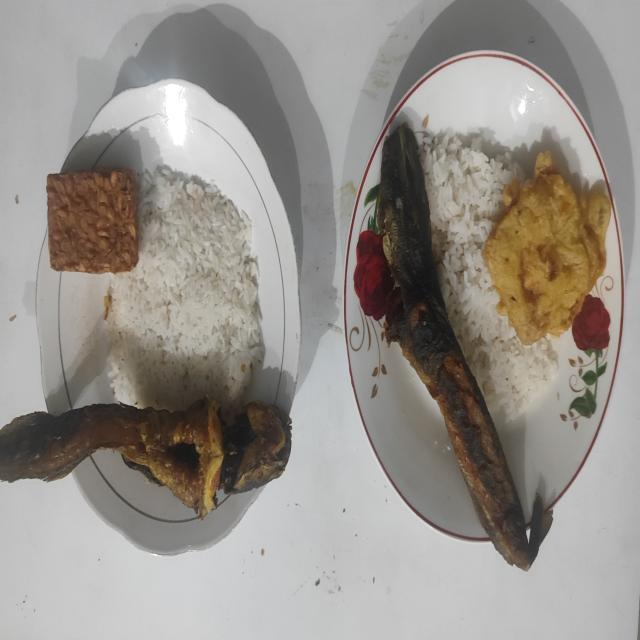nasi_putih: (106, 166, 266, 420), (421, 130, 560, 420)
tempe_goreng: (46, 169, 138, 273)
